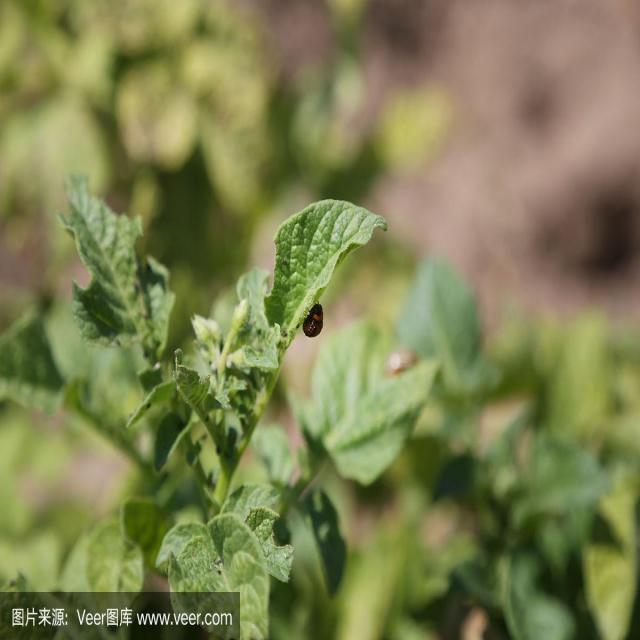ShuCaiHuaBanChong-Larva-: (298, 296, 331, 345)
